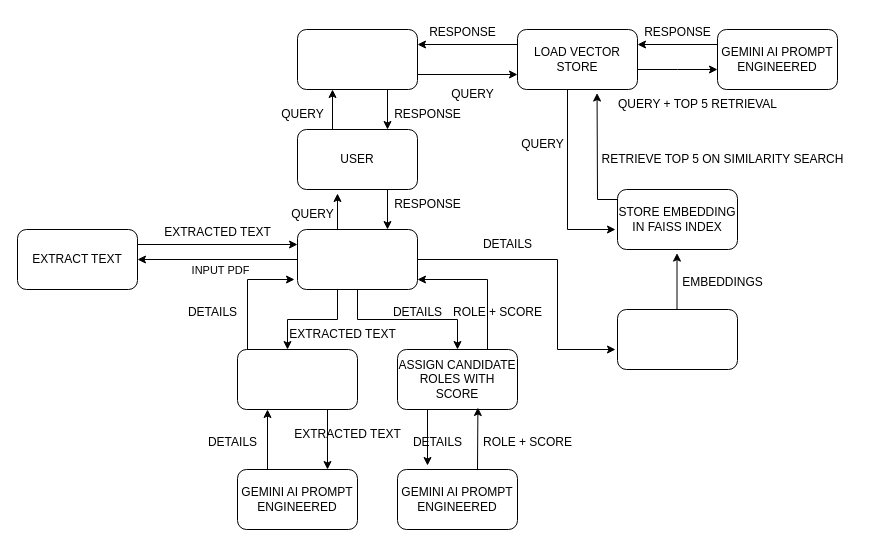
Some shapes in this 875 by 547 pixel diagram are drawn without their labels. The shapes that lost their labels are listed below. From the top down, each one's centre as x and y in pixels, then its label:
At pixel 357 59: "/CHAT".
At pixel 357 259: "/UPLOAD".
At pixel 677 339: "ADD DETAILS TO VECTORE STORE".
At pixel 297 379: "EXTRACT RESUME DETAILS".
